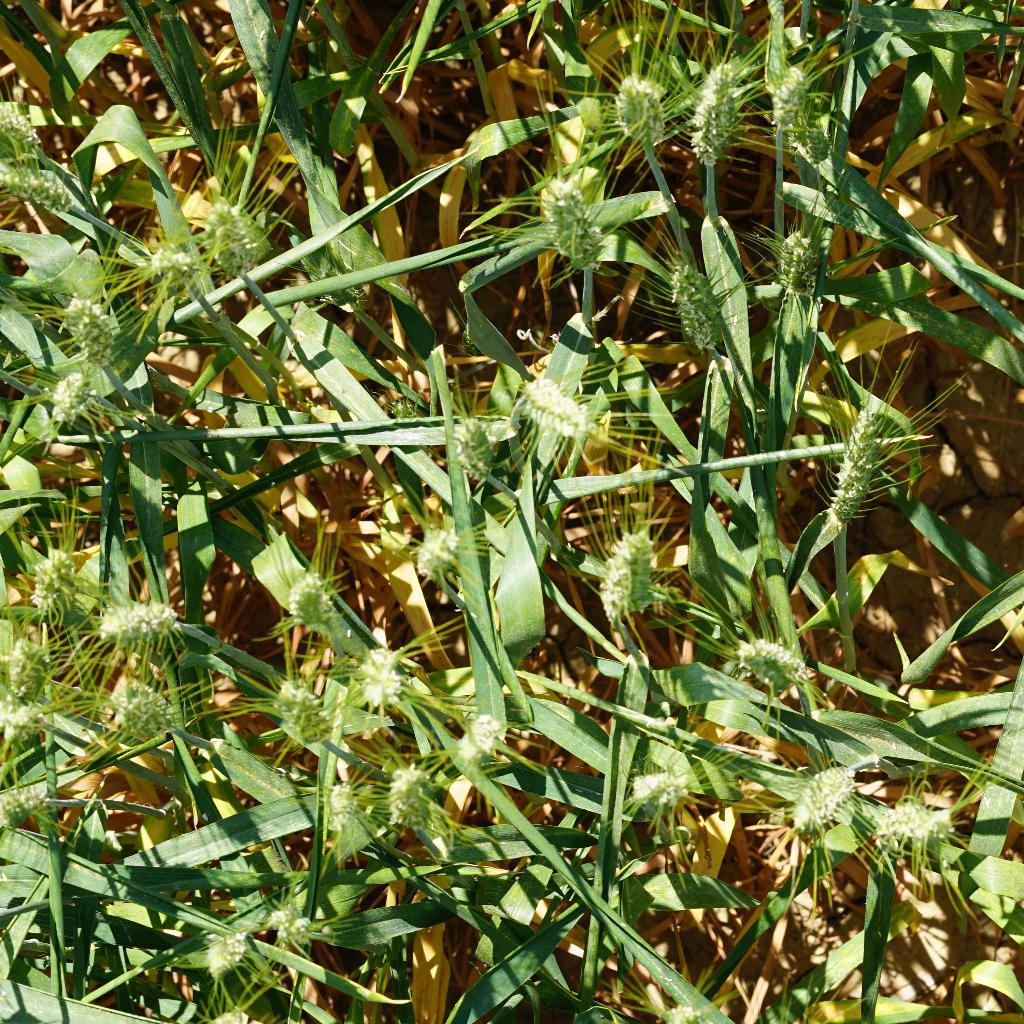0-0: (821, 404, 889, 524), (530, 169, 604, 275), (186, 190, 276, 276), (681, 56, 748, 168), (586, 522, 662, 619), (665, 251, 729, 362), (97, 580, 187, 658), (717, 627, 817, 697), (496, 374, 597, 443), (36, 361, 126, 432), (98, 676, 186, 748), (40, 292, 119, 372), (17, 530, 89, 617), (604, 64, 671, 153), (4, 634, 67, 727), (258, 661, 331, 740), (392, 519, 474, 585), (785, 762, 855, 838), (0, 161, 88, 221), (881, 793, 955, 862), (447, 705, 511, 784), (619, 765, 699, 828), (763, 227, 825, 305), (440, 408, 501, 486), (264, 894, 333, 961), (279, 561, 342, 634), (757, 59, 815, 138), (347, 643, 410, 706), (385, 762, 440, 832), (0, 100, 59, 163), (139, 238, 208, 288), (320, 773, 366, 842), (1, 777, 60, 828), (312, 263, 364, 317), (204, 922, 247, 986), (795, 107, 833, 170), (788, 109, 813, 172), (383, 397, 428, 424), (458, 320, 483, 361)
